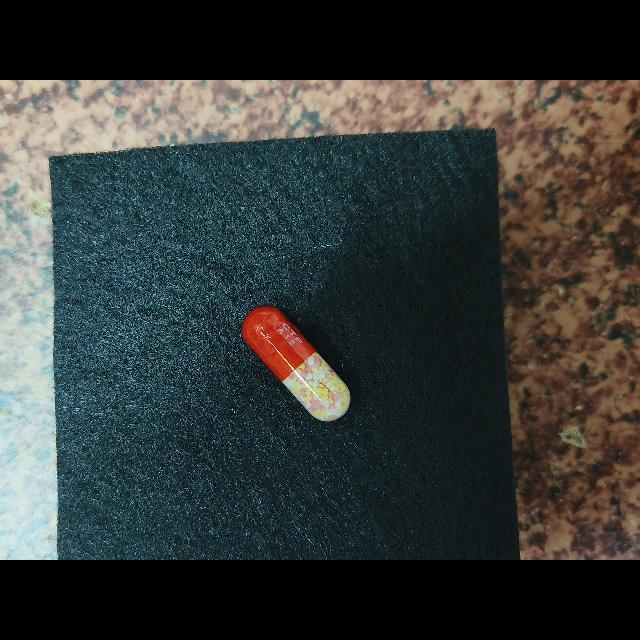Intact Capsule: (242, 306, 351, 421)
